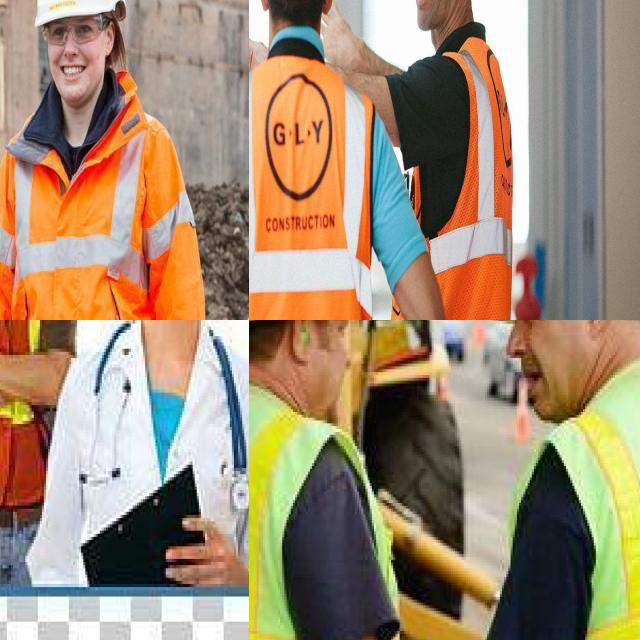No_Ear-Protection: (581, 320, 613, 340), (320, 0, 338, 19), (256, 0, 272, 12)
No_Glasses: (503, 320, 553, 338)
face_nomask: (500, 320, 598, 423), (297, 320, 361, 426), (43, 25, 106, 109), (397, 0, 455, 29)
glasses: (42, 7, 106, 49)
hand_noglove: (168, 511, 249, 596), (318, 1, 374, 64)
head_helmet: (32, 0, 127, 21)
person: (0, 0, 193, 320), (249, 320, 429, 640), (480, 320, 640, 640), (56, 320, 249, 577), (249, 0, 388, 320), (386, 0, 520, 320), (0, 320, 75, 562)
vest: (0, 98, 207, 320), (249, 397, 423, 640), (249, 51, 382, 320), (389, 41, 514, 320), (534, 377, 640, 640), (0, 320, 77, 502)
